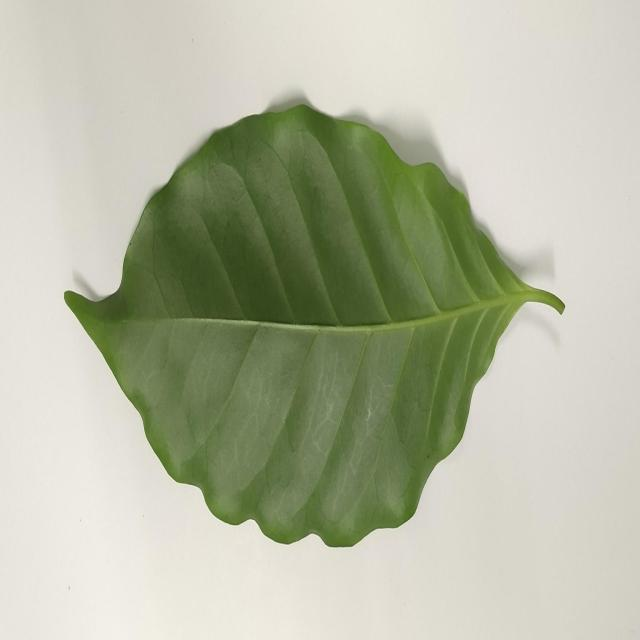Sanas: (62, 98, 566, 551)
